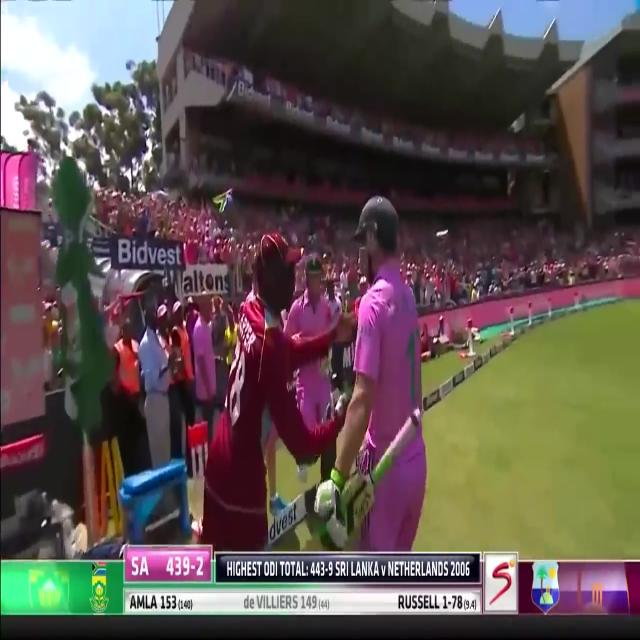Ball: (330, 209, 467, 550)
